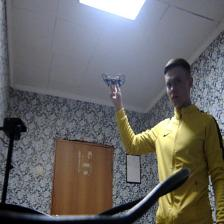drone: (101, 69, 126, 90)
